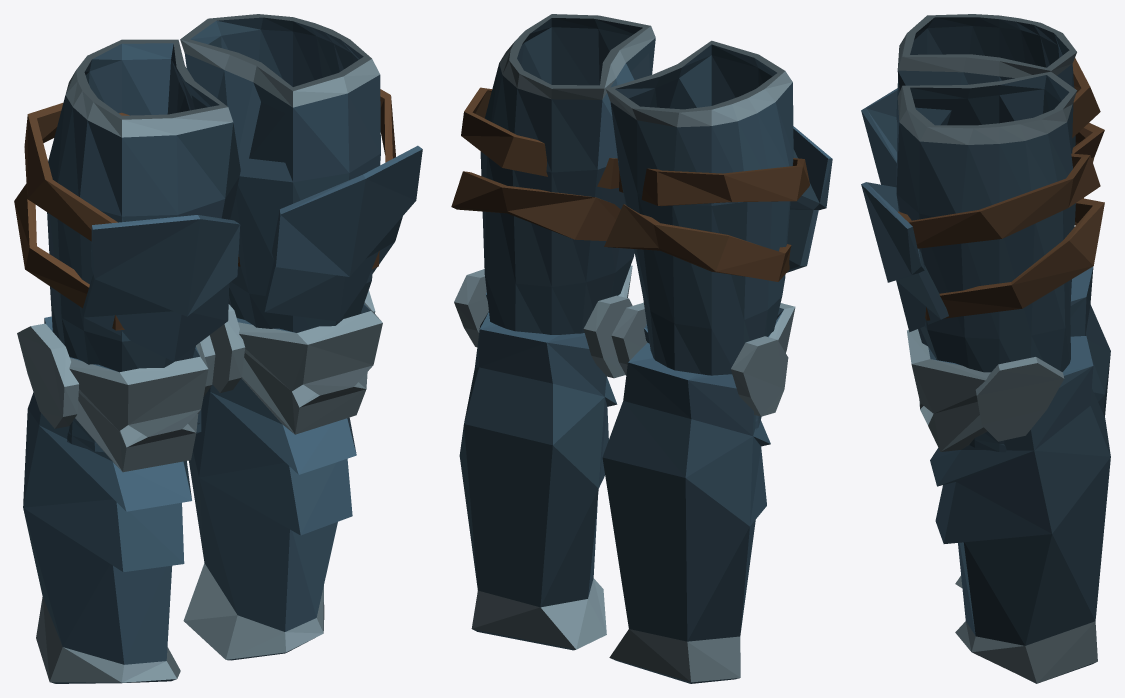
File: mithril_legs.glb
3 views of the same model, side by side, from view 1: azimuth 30°, elevation 25°; view 2: azimuth 150°, elevation 25°; view 3: azimuth 270°, elevation 25° (orthographic). The views are drawn at different scales.
Parts seen in each view (by area): view 1: mithril_legs; view 2: mithril_legs; view 3: mithril_legs.
Boxes of the visible parts, x1,y1,x2,y2 form: mithril_legs: [14, 14, 422, 683]; mithril_legs: [451, 14, 832, 683]; mithril_legs: [861, 14, 1110, 683].
Size of the model in its own units: 0.6117 by 1 by 0.4058.
